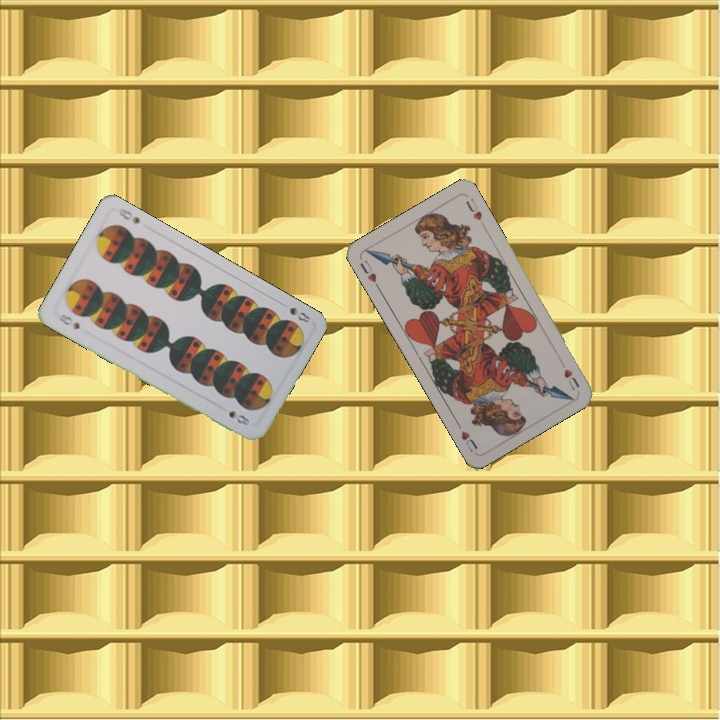HU: (556, 356, 582, 393), (355, 256, 382, 291)
S8: (276, 298, 313, 326), (54, 310, 82, 332)
